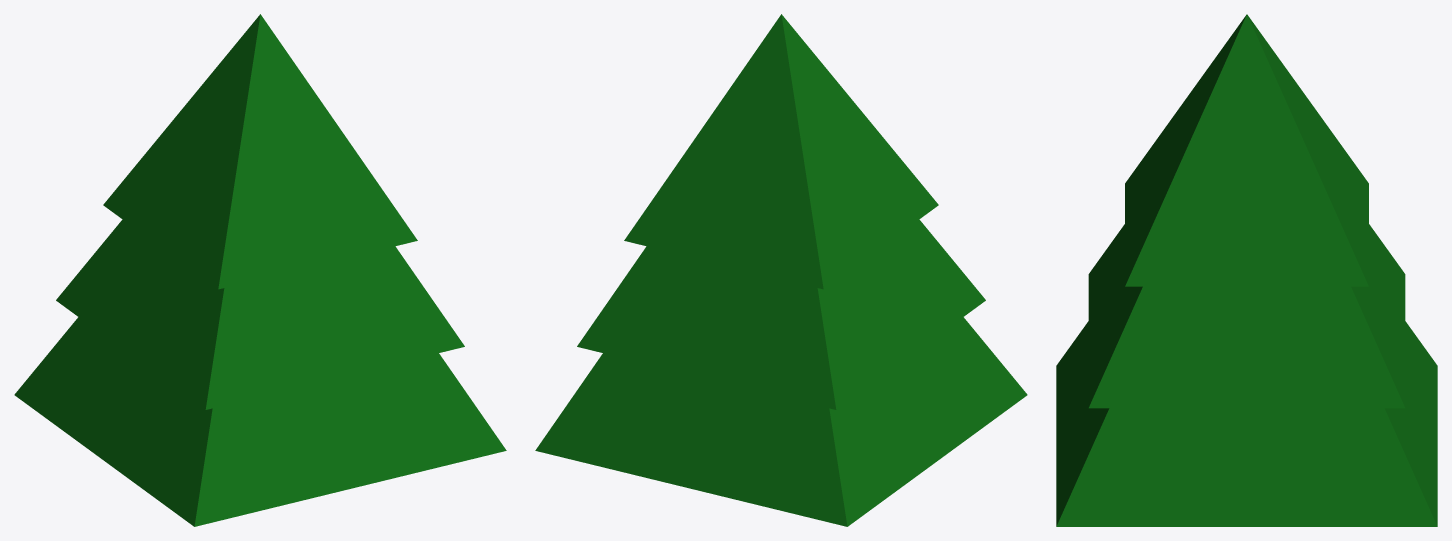
Rendered from Tree1.fbx.
3 renders of one model, left to right at view 1: azimuth 30°, elevation 25°; view 2: azimuth 150°, elevation 25°; view 3: azimuth 270°, elevation 25°, orthographic. The views are drawn at different scales.
Parts seen in each view (by area): view 1: Tree1; view 2: Tree1; view 3: Tree1.
Boxes of the visible parts, x1=… form: Tree1: x1=14, y1=14, x2=506, y2=526; Tree1: x1=535, y1=14, x2=1027, y2=526; Tree1: x1=1056, y1=14, x2=1437, y2=526.
Bounding box in the file's own units: 14.07 × 20.07 × 14.07.
